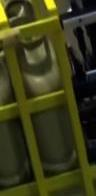cylinder: (0, 1, 96, 196)
